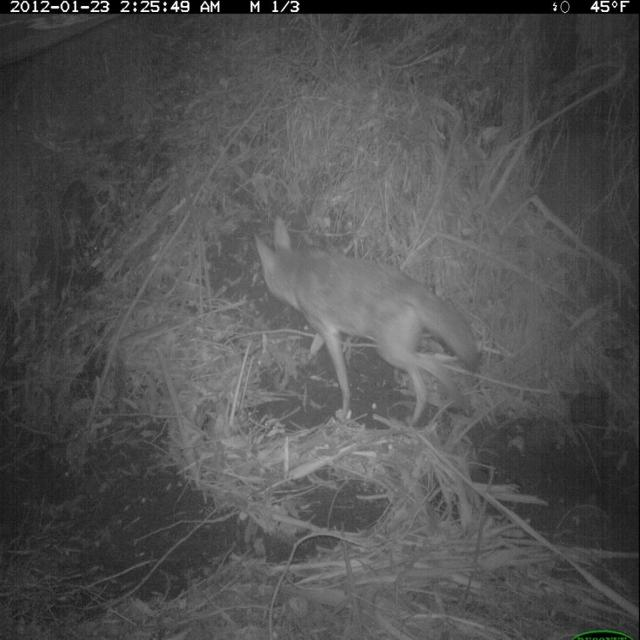coyote: (252, 212, 483, 437)
